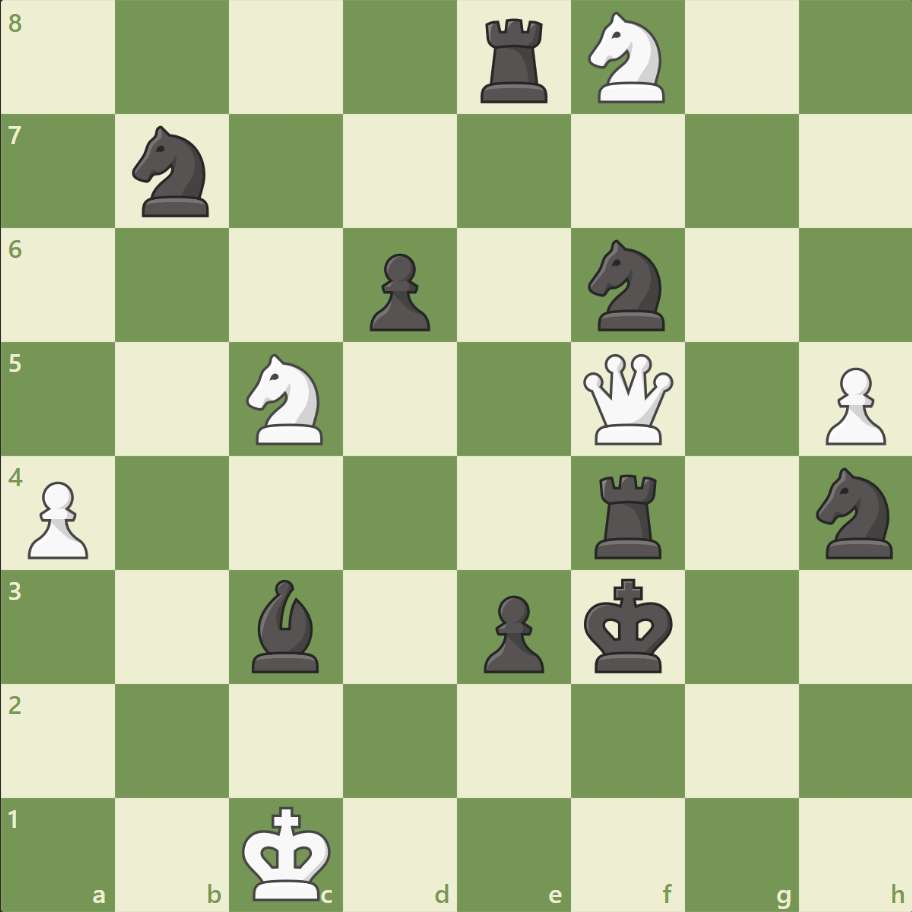K: (238, 798, 338, 906)
N: (579, 7, 676, 110), (238, 348, 335, 450)
P: (20, 473, 95, 564), (815, 359, 889, 450)
Q: (578, 349, 677, 449)
b: (244, 574, 328, 676)
k: (579, 571, 679, 679)
n: (124, 121, 222, 223), (579, 234, 676, 337), (806, 461, 903, 564)
p: (474, 586, 549, 677), (361, 246, 435, 337)
r: (473, 12, 556, 109), (587, 466, 670, 563)
